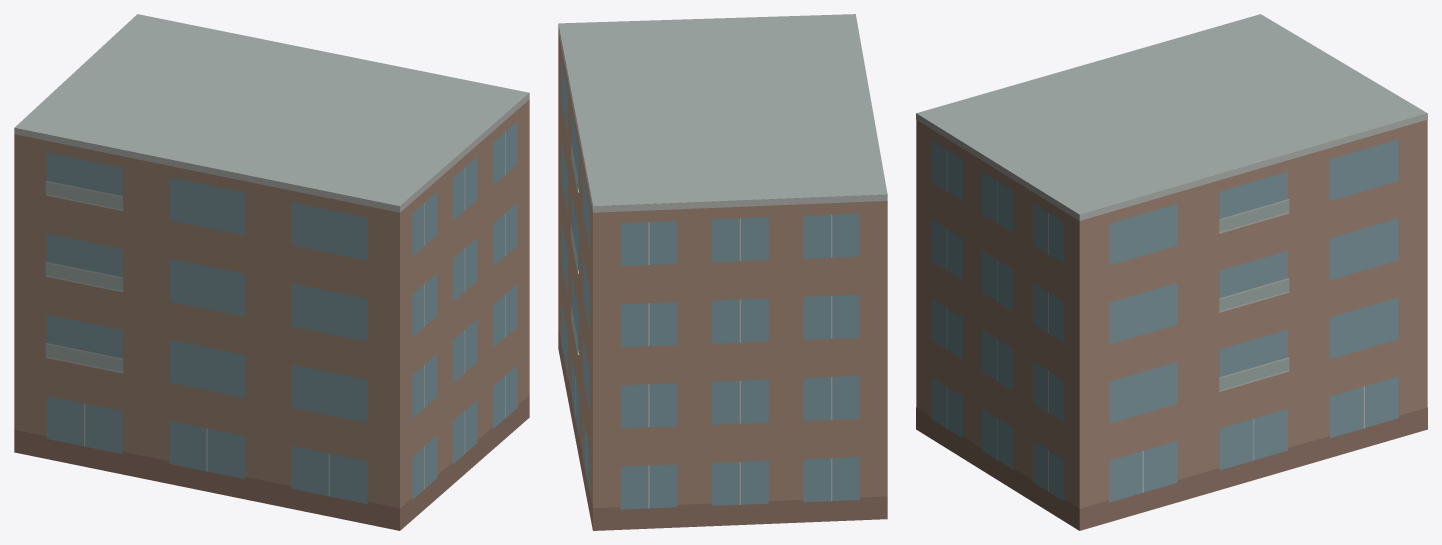
The model's file is survey-upis-33039069.glb.
3 renders of one model, left to right at view 1: azimuth 30°, elevation 25°; view 2: azimuth 150°, elevation 25°; view 3: azimuth 270°, elevation 25°, orthographic. The views are drawn at different scales.
Visible parts, largest first — view 1: survey-upis-33039069.tmp; view 2: survey-upis-33039069.tmp; view 3: survey-upis-33039069.tmp.
Boxes of the visible parts, <box> form: survey-upis-33039069.tmp: <box>14,14,529,530</box>; survey-upis-33039069.tmp: <box>558,14,887,530</box>; survey-upis-33039069.tmp: <box>916,14,1427,530</box>.
Size of the model in its own units: 16.61 by 12.2 by 17.9.
